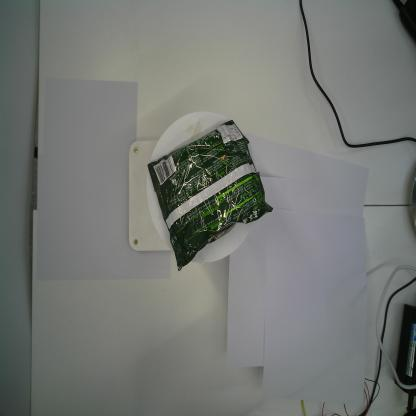Instant Noodles: (145, 118, 275, 274)
